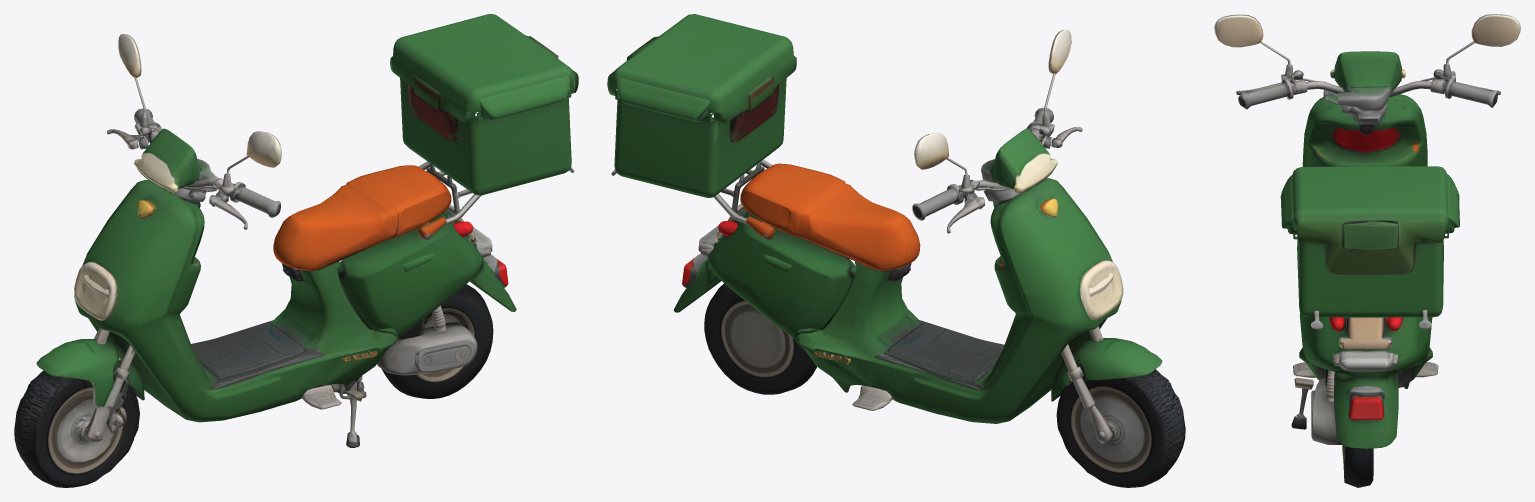
Rendered from toonstudio_delivery_scooter.glb.
3 renders of one model, left to right at view 1: azimuth 30°, elevation 25°; view 2: azimuth 150°, elevation 25°; view 3: azimuth 270°, elevation 25°, orthographic. The views are drawn at different scales.
Parts seen in each view (by area): view 1: cb9bd214_2e75_45bf_becc_48b02cf3ce5e; view 2: cb9bd214_2e75_45bf_becc_48b02cf3ce5e; view 3: cb9bd214_2e75_45bf_becc_48b02cf3ce5e.
Part boxes in pixels (left/top/right/bottom): cb9bd214_2e75_45bf_becc_48b02cf3ce5e: left=14, top=14, right=578, bottom=487; cb9bd214_2e75_45bf_becc_48b02cf3ce5e: left=607, top=14, right=1185, bottom=487; cb9bd214_2e75_45bf_becc_48b02cf3ce5e: left=1214, top=14, right=1520, bottom=487.
Bounding box in the file's own units: 1.9 × 1.26 × 0.9718.
Materials: 1 (1 with a texture image).
